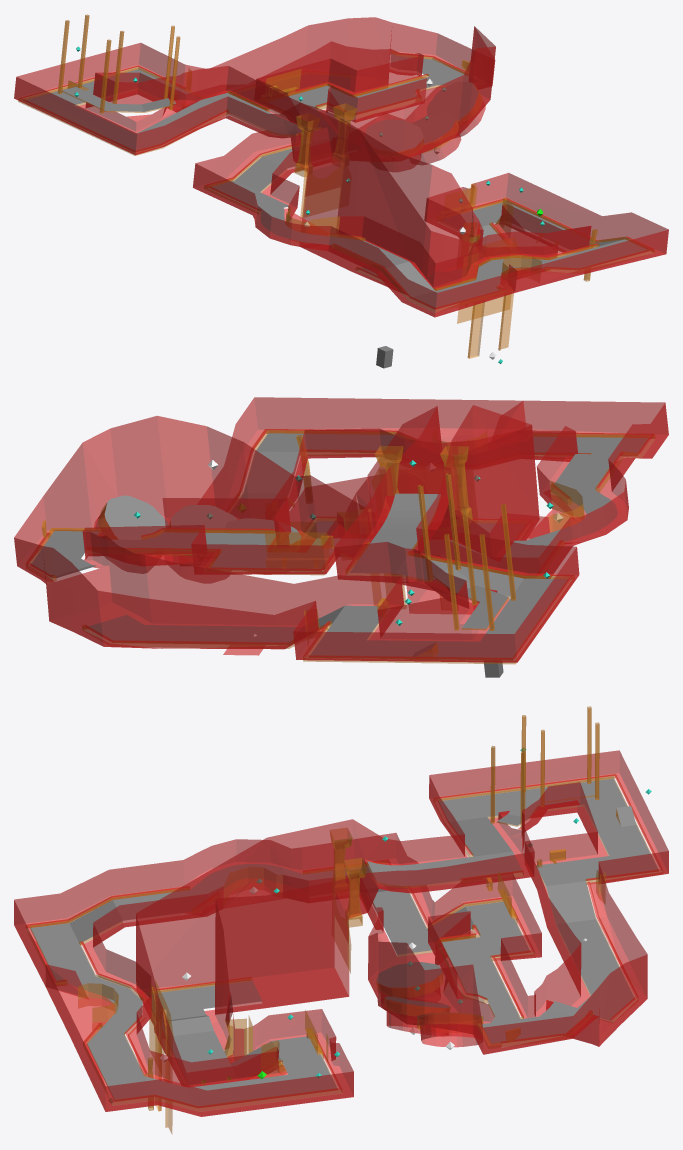
Rendered from Clockwork (Complete).obj.
3 renders of one model, top to bottom at view 1: azimuth 30°, elevation 25°; view 2: azimuth 150°, elevation 25°; view 3: azimuth 270°, elevation 25°, orthographic. The views are drawn at different scales.
Visible parts, largest first — view 1: COL_reset01, COL_track_StuFix, COL_wall01, COL_metaltrack, COL_groundreset01, COL_groundreset02, COL_wall02; view 2: COL_reset01, COL_track_StuFix, COL_wall01, COL_metaltrack, COL_groundreset01, COL_groundreset02; view 3: COL_reset01, COL_track_StuFix, COL_wall01, COL_groundreset01, COL_wall02, COL_groundreset02, COL_metaltrack.
Boxes of the visible parts, x1,y1,x2,y2 form: COL_reset01: [14, 17, 668, 317]; COL_track_StuFix: [26, 54, 646, 368]; COL_wall01: [18, 14, 654, 358]; COL_metaltrack: [365, 82, 477, 151]; COL_groundreset01: [20, 51, 653, 308]; COL_groundreset02: [382, 106, 485, 171]; COL_wall02: [398, 88, 482, 154]; COL_reset01: [14, 397, 668, 662]; COL_track_StuFix: [32, 433, 647, 677]; COL_wall01: [26, 429, 654, 664]; COL_metaltrack: [104, 495, 300, 544]; COL_groundreset01: [26, 429, 653, 658]; COL_groundreset02: [94, 507, 296, 583]; COL_reset01: [14, 750, 668, 1116]; COL_track_StuFix: [30, 778, 657, 1106]; COL_wall01: [26, 706, 662, 1134]; COL_groundreset01: [26, 774, 662, 1107]; COL_wall02: [376, 973, 483, 1029]; COL_groundreset02: [386, 977, 480, 1047]; COL_metaltrack: [376, 962, 482, 1017].
Size of the model in its own units: 334 by 197 by 392.
